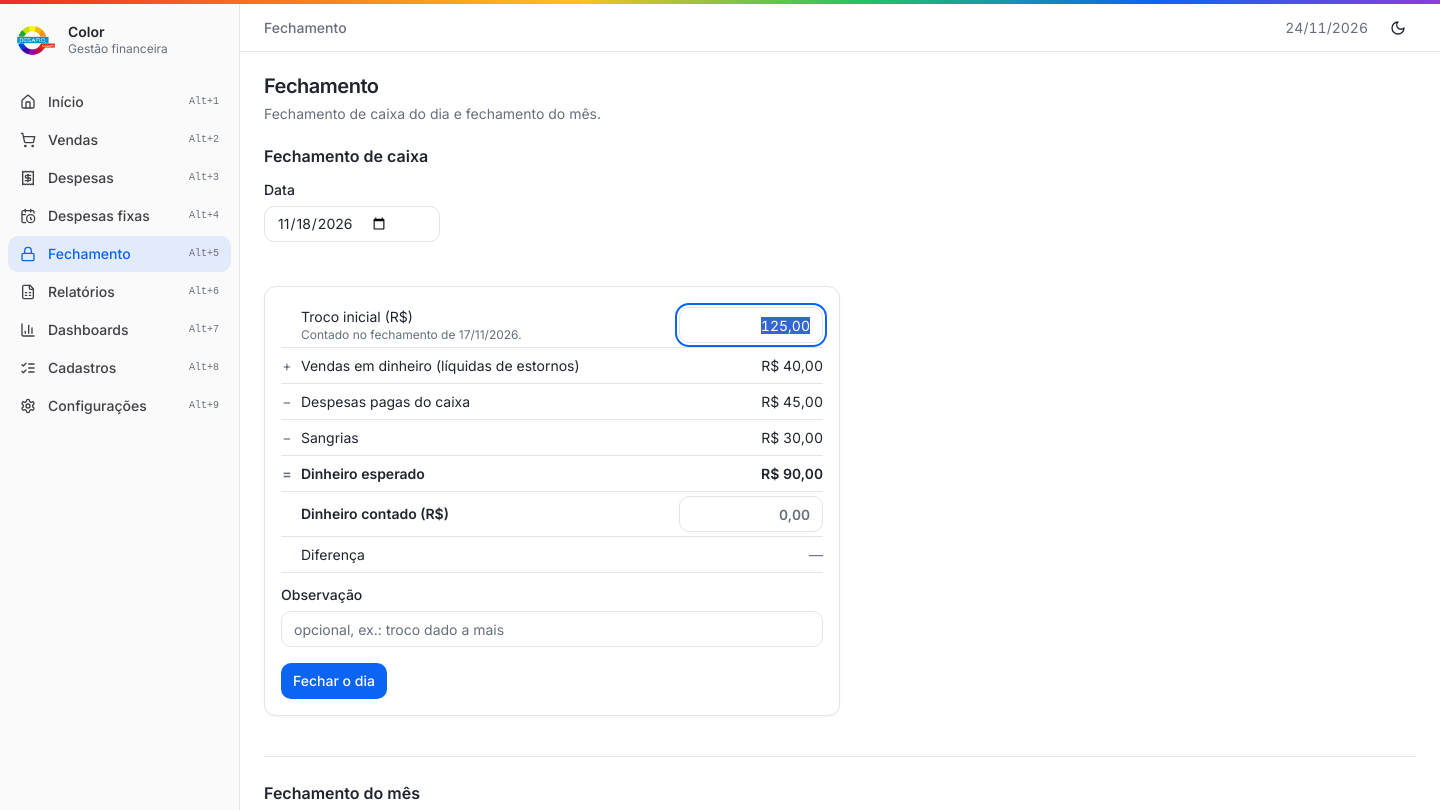
FR-08: close the day (Fechamento page) › FR-08: a surplus is shown as sobra; changing a value asks for confirmation again
The width and height of the screenshot is (1440, 810).
Check: the form named "Fechar o dia" is shown, box [281,303,823,699]
Step 1. Type "91,00" into the field labelled "Dinheiro contado (R$)" → (751, 514), box [679,496,823,532]
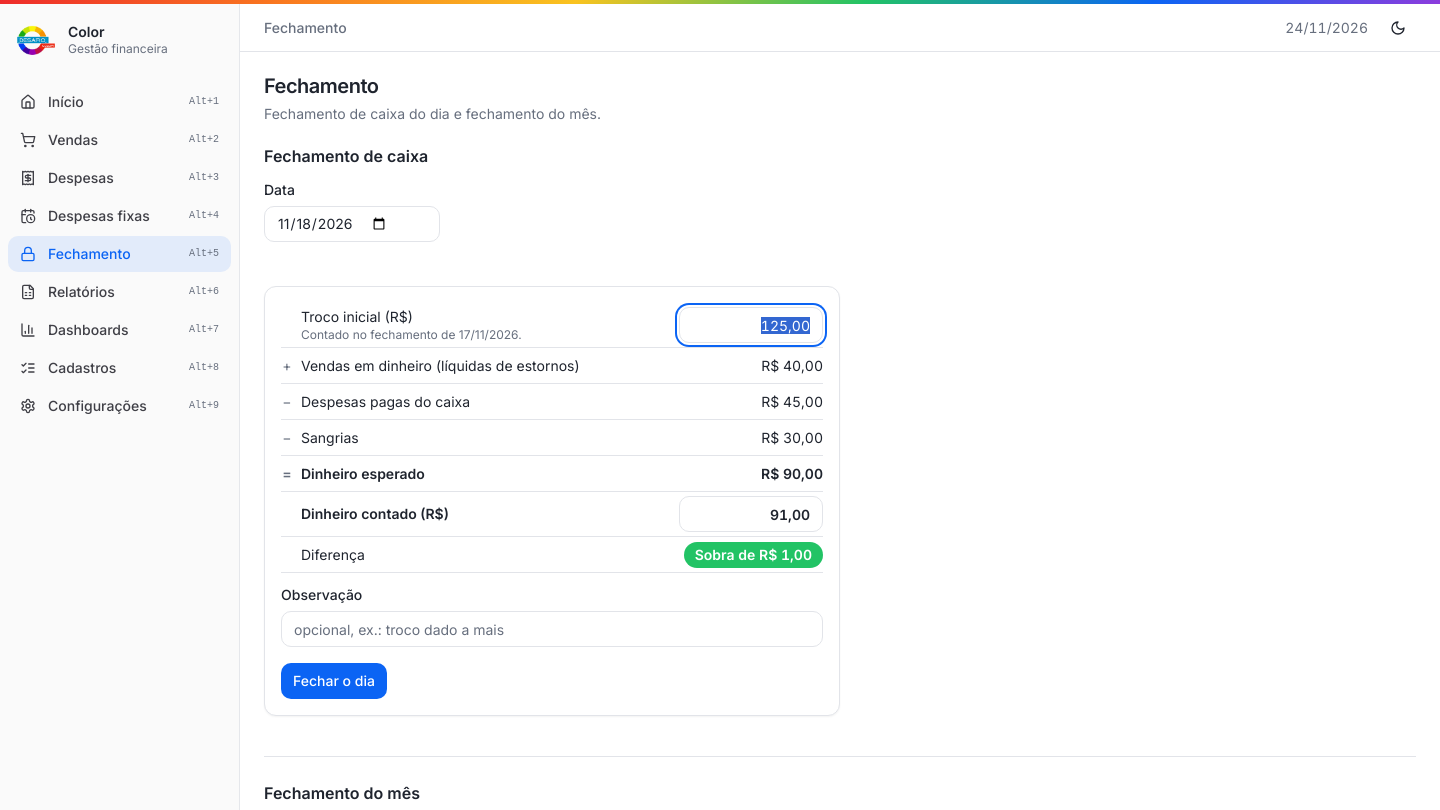
Check: the element with test id "difference" reads "Sobra de R$ 1,00", box [695,546,812,562]
Step 2. Submit the form named "Fechar o dia", box [281,303,823,699]
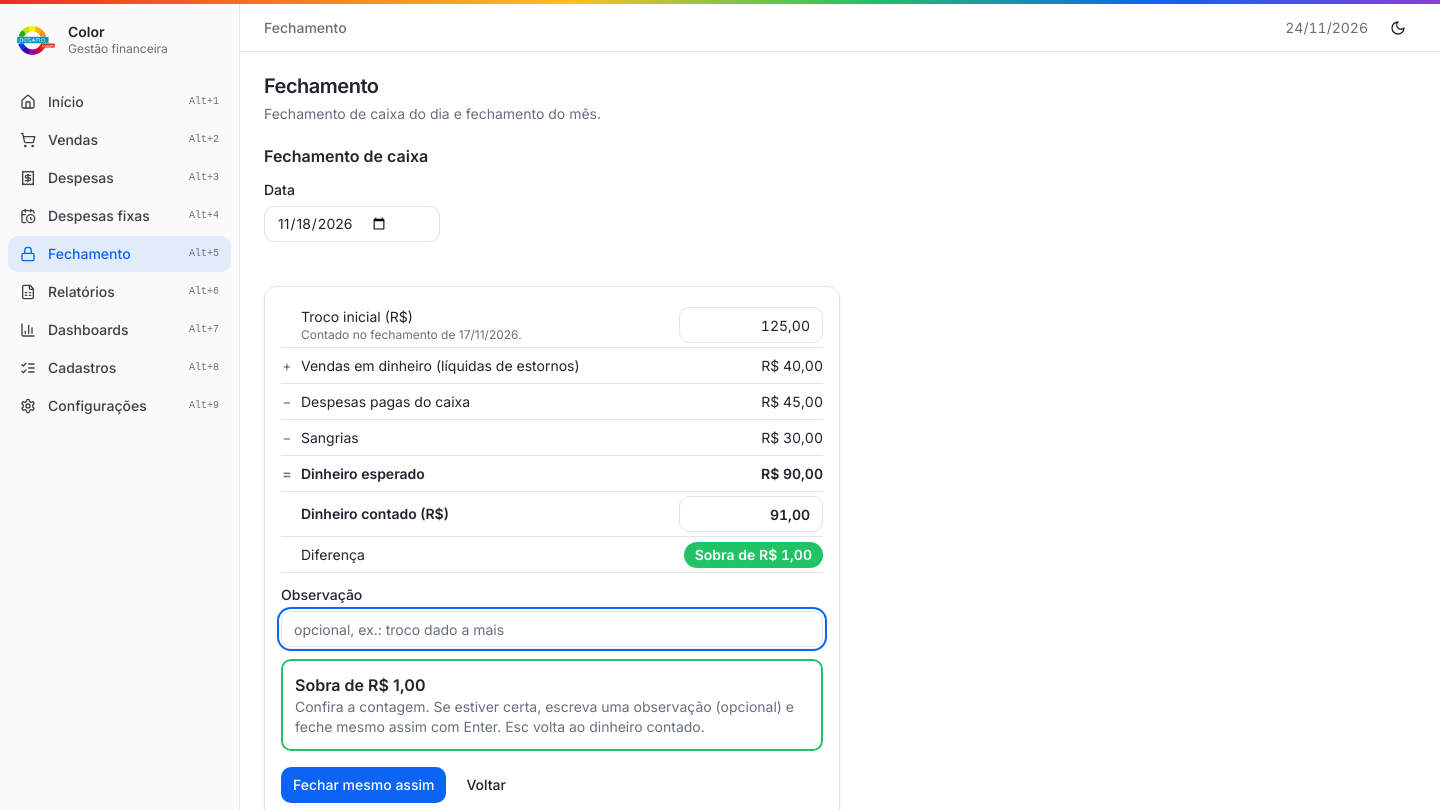
Check: the button "Fechar mesmo assim" is shown, box [281,767,446,803]
Step 3. Replace the text in the field labelled "Dinheiro contado (R$)" with "92,00" → (751, 514), box [679,496,823,532]
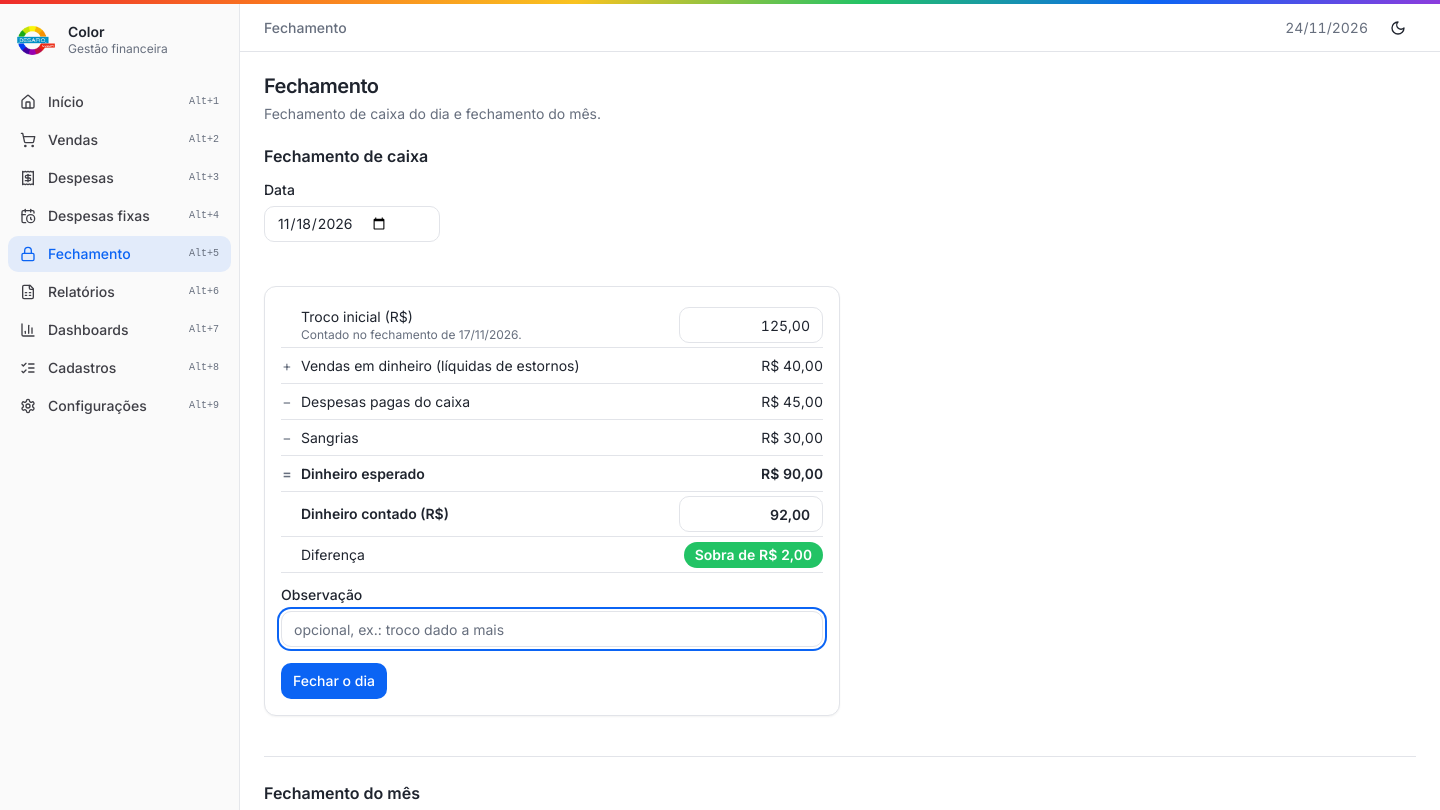
Check: the button "Fechar mesmo assim" is gone
Step 4. Submit the form named "Fechar o dia", box [281,303,823,699]
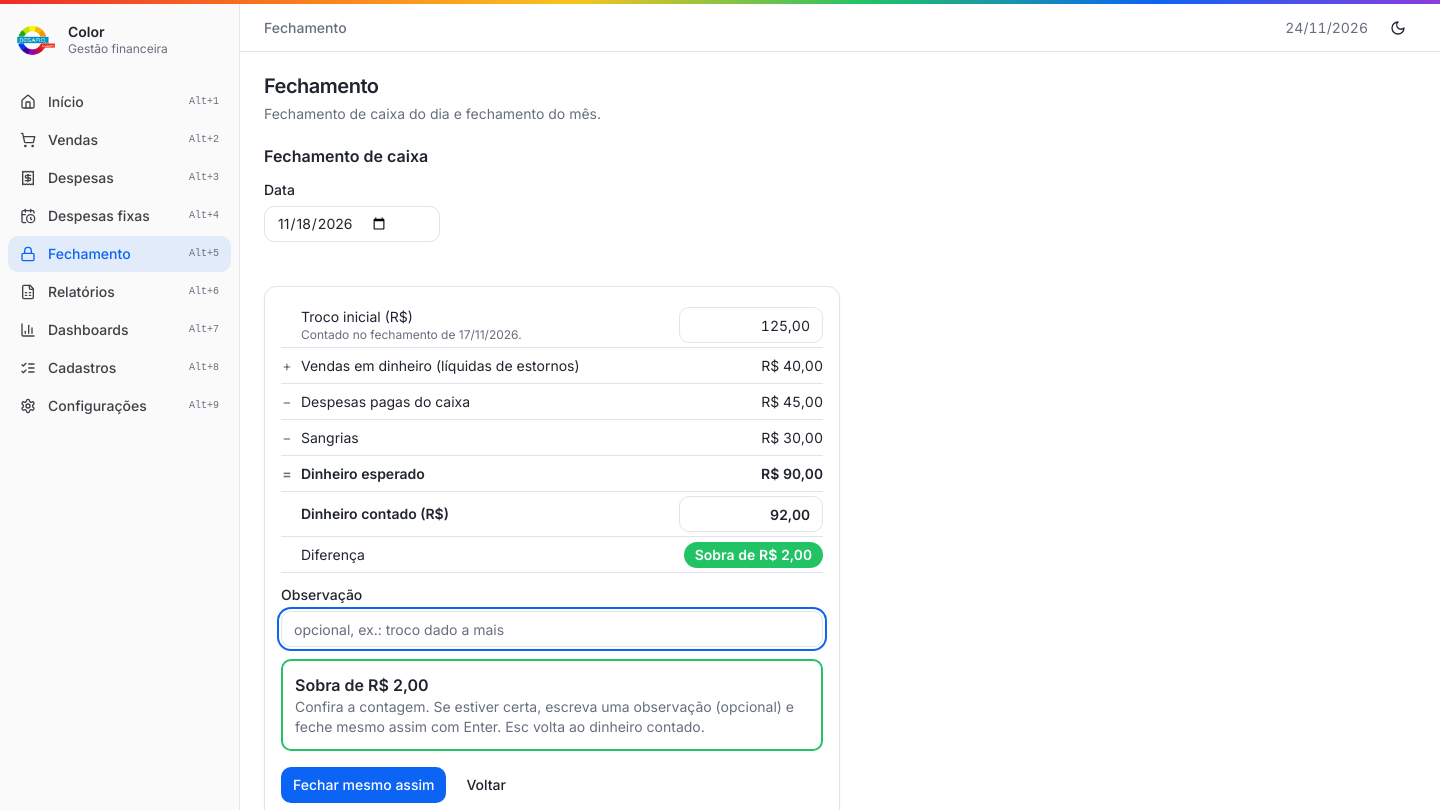
Check: the button "Fechar mesmo assim" is shown, box [281,767,446,803]
